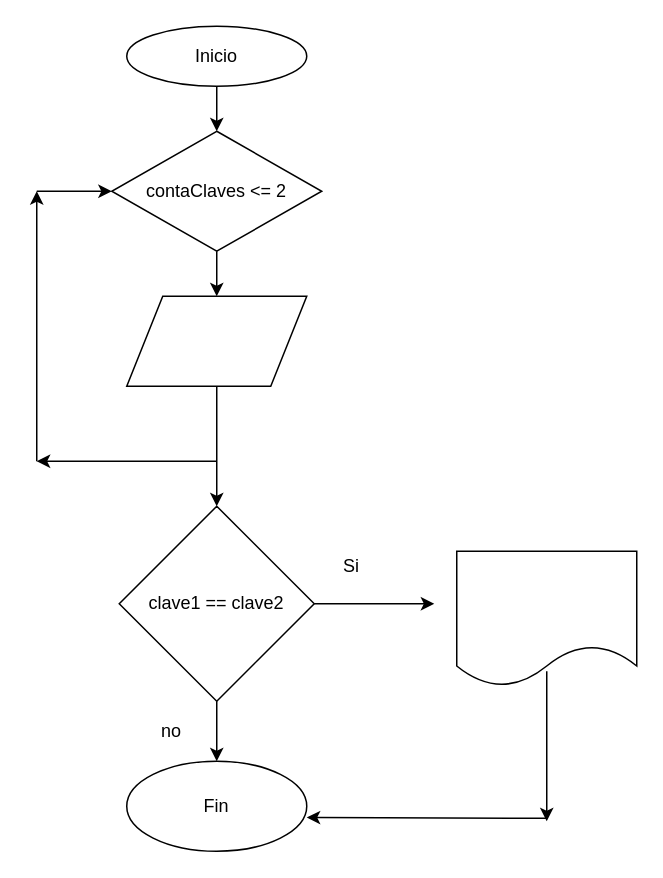
This 663x878 diagram has some shape labels left out. The centre of each missing label's shape, as x and y in pixels:
"Clave1 es igual a Clave2" goes at [546,618].
"clave1, clave2" goes at [216,340].
